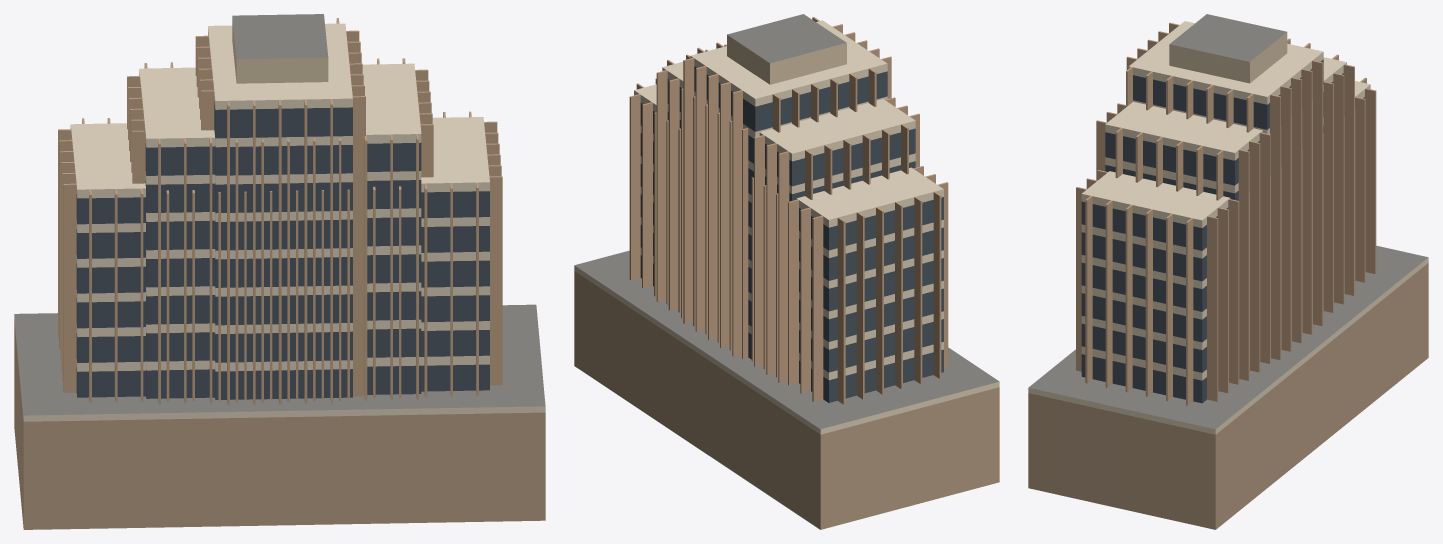
File: the_ogden_w204144588.glb
The picture shows the model from 3 angles, left to right: view 1: azimuth 30°, elevation 25°; view 2: azimuth 150°, elevation 25°; view 3: azimuth 270°, elevation 25°; orthographic projection. The views are drawn at different scales.
Visible parts, largest first — view 1: Tower; view 2: Tower; view 3: Tower.
Boxes of the visible parts, x1,y1,x2,y2 form: Tower: (14, 14, 545, 529); Tower: (574, 14, 999, 529); Tower: (1028, 14, 1428, 529).
Bounding box in the file's own units: 100 × 84.2 × 79.28.
